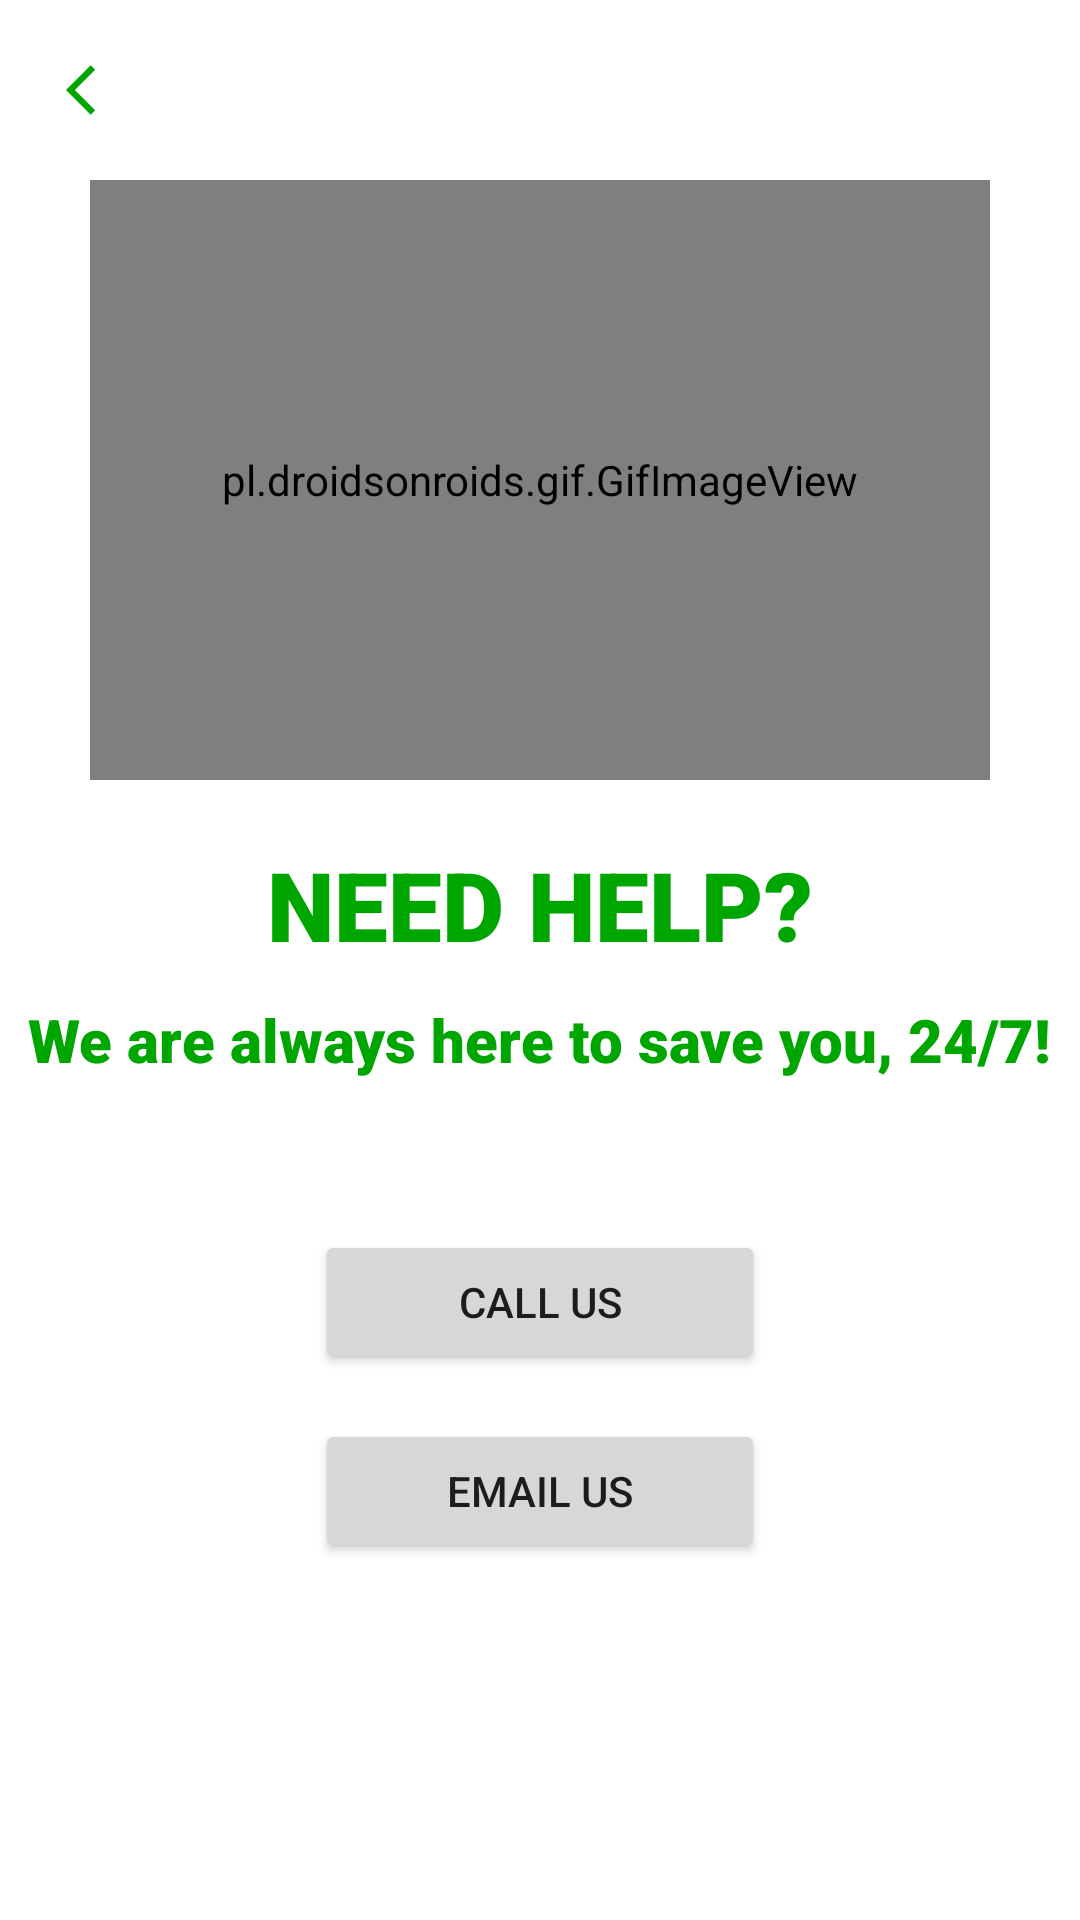

Where to tap for icons on this 1080x1920 app screen, as [x,y]:
back: [80,90]
